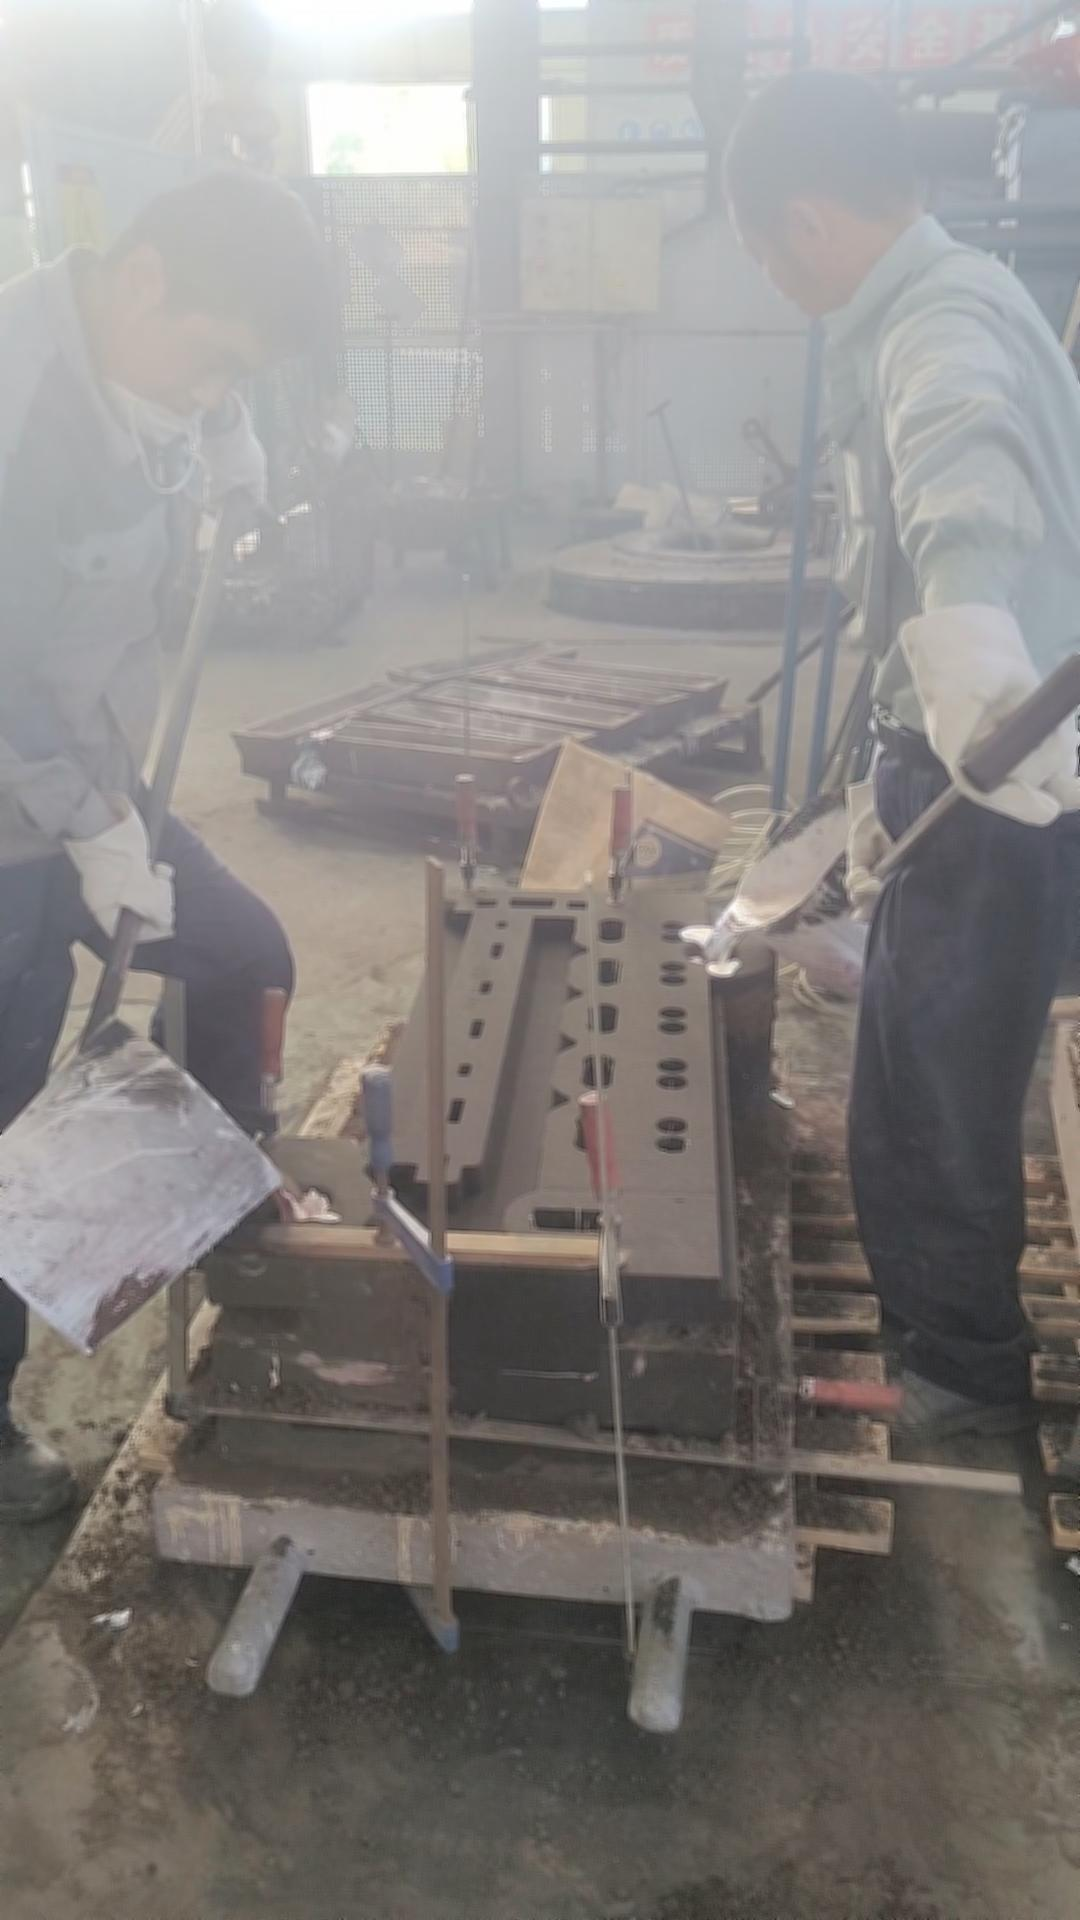pouring hole: (266, 1179, 336, 1225), (680, 938, 760, 973)
